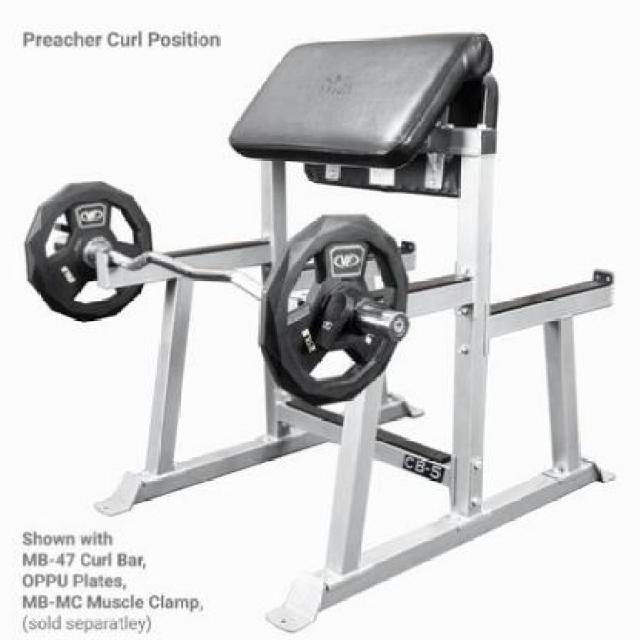arm curl machine: (24, 44, 618, 530)
